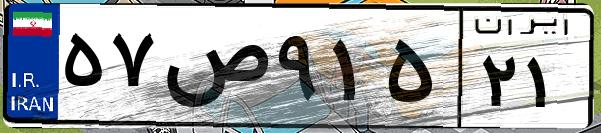1: (330, 28, 385, 110), (525, 38, 570, 115)
2: (475, 38, 525, 113)
5: (385, 28, 445, 110), (57, 26, 110, 100)
7: (110, 28, 158, 98)
9: (270, 28, 330, 110)
ص: (158, 20, 270, 120)
